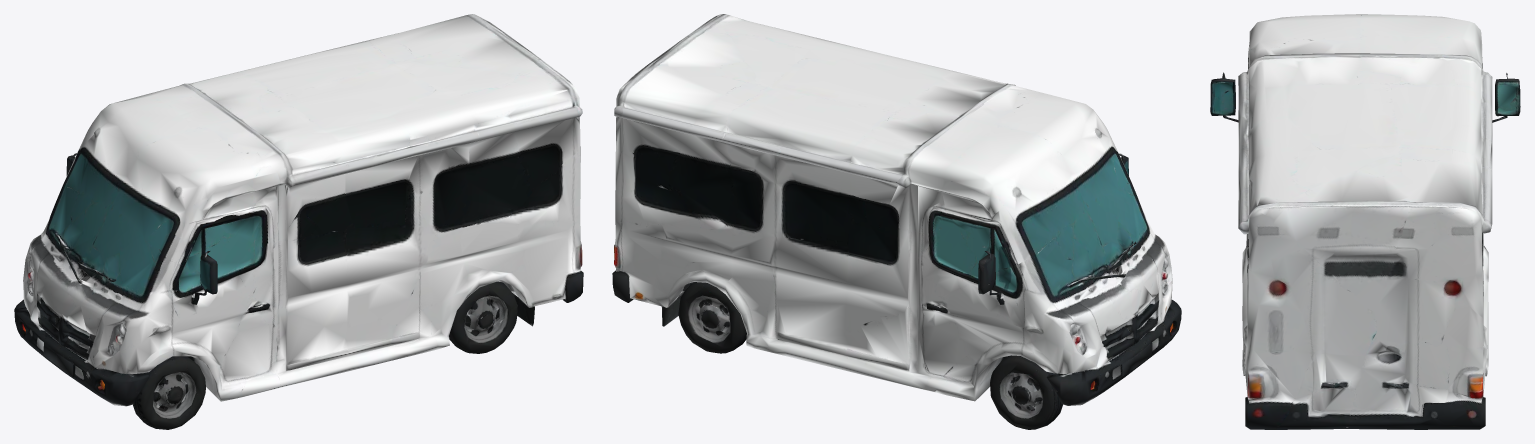
File: n_van.glb
The picture shows the model from 3 angles, left to right: view 1: azimuth 30°, elevation 25°; view 2: azimuth 150°, elevation 25°; view 3: azimuth 270°, elevation 25°; orthographic projection. The views are drawn at different scales.
Bounding box in the file's own units: 1.9 × 0.9517 × 1.02.
1 material, 1 textured.
